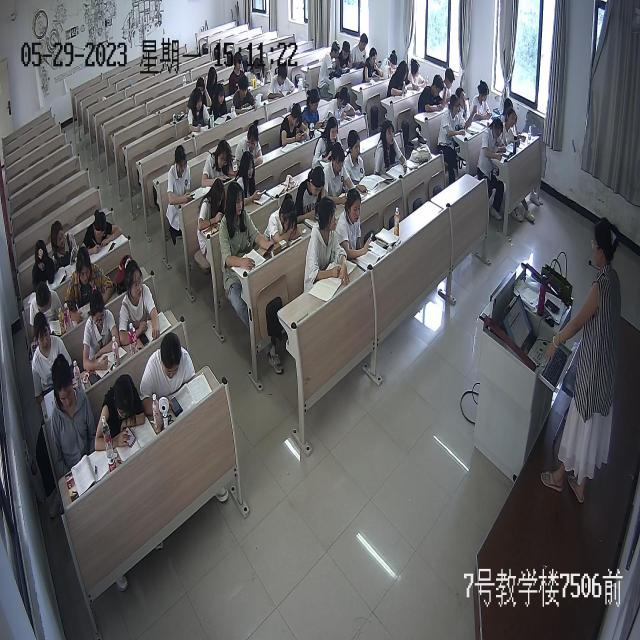distracted: (49, 352, 100, 468), (319, 40, 341, 82), (337, 40, 354, 74)
focused: (305, 196, 350, 290), (120, 254, 164, 350), (65, 246, 113, 322), (82, 286, 122, 375), (32, 311, 74, 393), (338, 188, 375, 266), (322, 142, 355, 210), (30, 280, 63, 342), (376, 118, 408, 180), (197, 176, 228, 238), (344, 130, 373, 196), (83, 209, 123, 256), (313, 115, 344, 171), (236, 114, 264, 172), (30, 239, 57, 295), (51, 220, 80, 270), (438, 92, 467, 142), (418, 74, 448, 120), (480, 118, 507, 165), (231, 74, 259, 117), (188, 88, 212, 136), (268, 61, 296, 102), (473, 76, 495, 124), (389, 56, 412, 101), (210, 80, 230, 128), (456, 86, 478, 128), (228, 55, 250, 94), (379, 42, 401, 81), (363, 47, 383, 87), (501, 108, 520, 150), (246, 56, 266, 88), (206, 66, 223, 103), (352, 32, 368, 69), (441, 64, 455, 104), (194, 75, 212, 106)
sleep: (269, 191, 303, 250)
using_phone: (220, 180, 278, 277), (141, 336, 197, 422), (95, 373, 145, 453), (295, 164, 331, 226), (167, 142, 196, 207), (236, 154, 267, 205), (279, 101, 311, 150), (202, 140, 236, 183), (325, 84, 358, 125), (304, 86, 326, 134), (407, 54, 430, 92)
